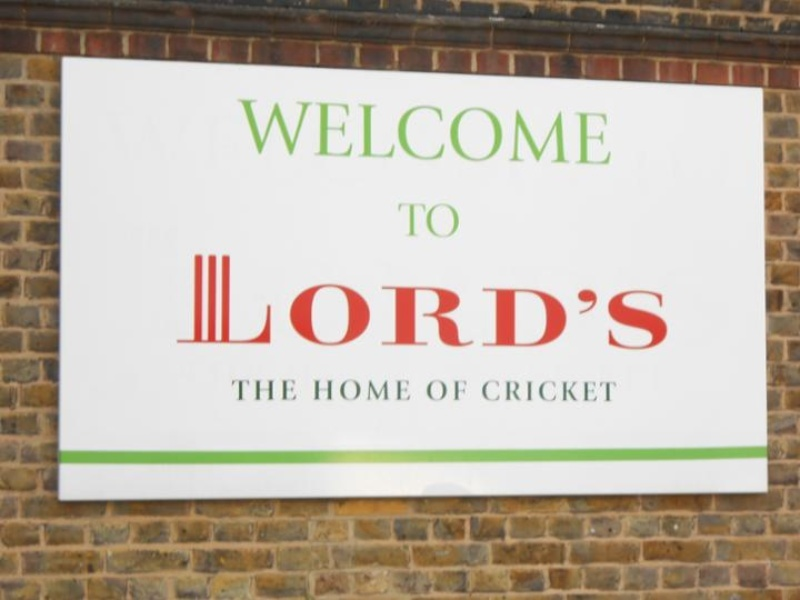text: (193, 251, 208, 351), (209, 251, 224, 351), (225, 251, 240, 351), (241, 251, 256, 351), (257, 251, 272, 351), (273, 251, 288, 351), (289, 251, 304, 351), (305, 251, 320, 351), (321, 251, 336, 351), (337, 251, 352, 351), (353, 251, 368, 351), (369, 251, 384, 351), (385, 251, 400, 351), (401, 251, 416, 351), (417, 251, 432, 351), (433, 251, 448, 351), (449, 251, 464, 351), (465, 251, 480, 351), (481, 251, 496, 351), (497, 251, 512, 351), (513, 251, 528, 351), (529, 251, 544, 351), (545, 251, 560, 351), (561, 251, 576, 351), (577, 251, 592, 351), (593, 251, 608, 351), (609, 251, 624, 351), (625, 251, 640, 351), (641, 251, 656, 351), (657, 251, 669, 351), (241, 96, 256, 166), (257, 96, 272, 166), (273, 96, 288, 166), (289, 96, 304, 166), (305, 96, 320, 166), (321, 96, 336, 166), (337, 96, 352, 166), (353, 96, 368, 166), (369, 96, 384, 166), (385, 96, 400, 166), (401, 96, 416, 166), (417, 96, 432, 166), (433, 96, 448, 166), (449, 96, 464, 166), (465, 96, 480, 166), (481, 96, 496, 166), (497, 96, 512, 166), (513, 96, 528, 166), (529, 96, 544, 166), (545, 96, 560, 166), (561, 96, 576, 166), (577, 96, 592, 166), (593, 96, 608, 166), (401, 203, 416, 239), (417, 203, 432, 239), (433, 203, 448, 239), (449, 203, 462, 239), (241, 378, 256, 402), (257, 378, 272, 402), (273, 378, 288, 402), (321, 378, 336, 402), (337, 378, 352, 402), (353, 378, 368, 402), (369, 378, 384, 402), (385, 378, 400, 402), (497, 379, 512, 403), (513, 379, 528, 403), (529, 379, 544, 403), (545, 379, 560, 403), (561, 379, 576, 403), (577, 379, 592, 403), (593, 379, 608, 403), (433, 379, 448, 402), (449, 379, 464, 402), (482, 379, 496, 403), (236, 96, 240, 166), (229, 378, 240, 402), (401, 378, 412, 402), (609, 379, 618, 403), (609, 96, 612, 166), (289, 378, 297, 402), (313, 378, 320, 402), (396, 203, 400, 239), (427, 379, 432, 402), (465, 379, 468, 402)
